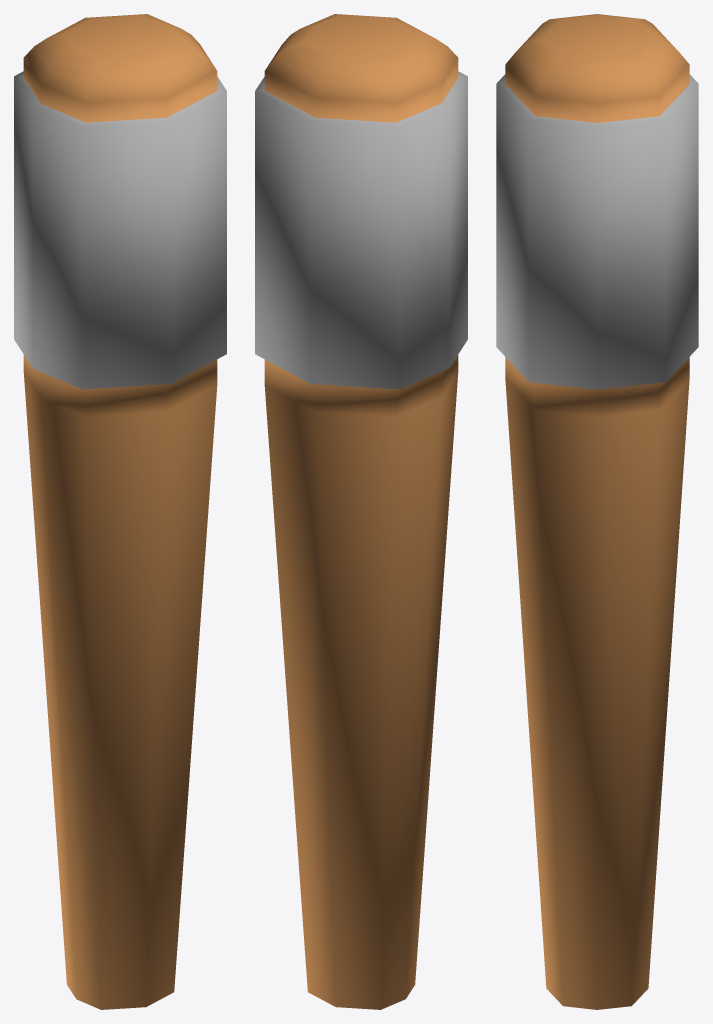
The model's file is Lever.fbx.
The picture shows the model from 3 angles, left to right: view 1: azimuth 30°, elevation 25°; view 2: azimuth 150°, elevation 25°; view 3: azimuth 270°, elevation 25°; orthographic projection.
Parts seen in each view (by area): view 1: Cube; view 2: Cube; view 3: Cube.
Part boxes in pixels (left/top/right/bottom): Cube: left=14, top=14, right=226, bottom=1009; Cube: left=255, top=14, right=467, bottom=1009; Cube: left=496, top=14, right=698, bottom=1009.
Bounding box in the file's own units: 189 × 981 × 189.
